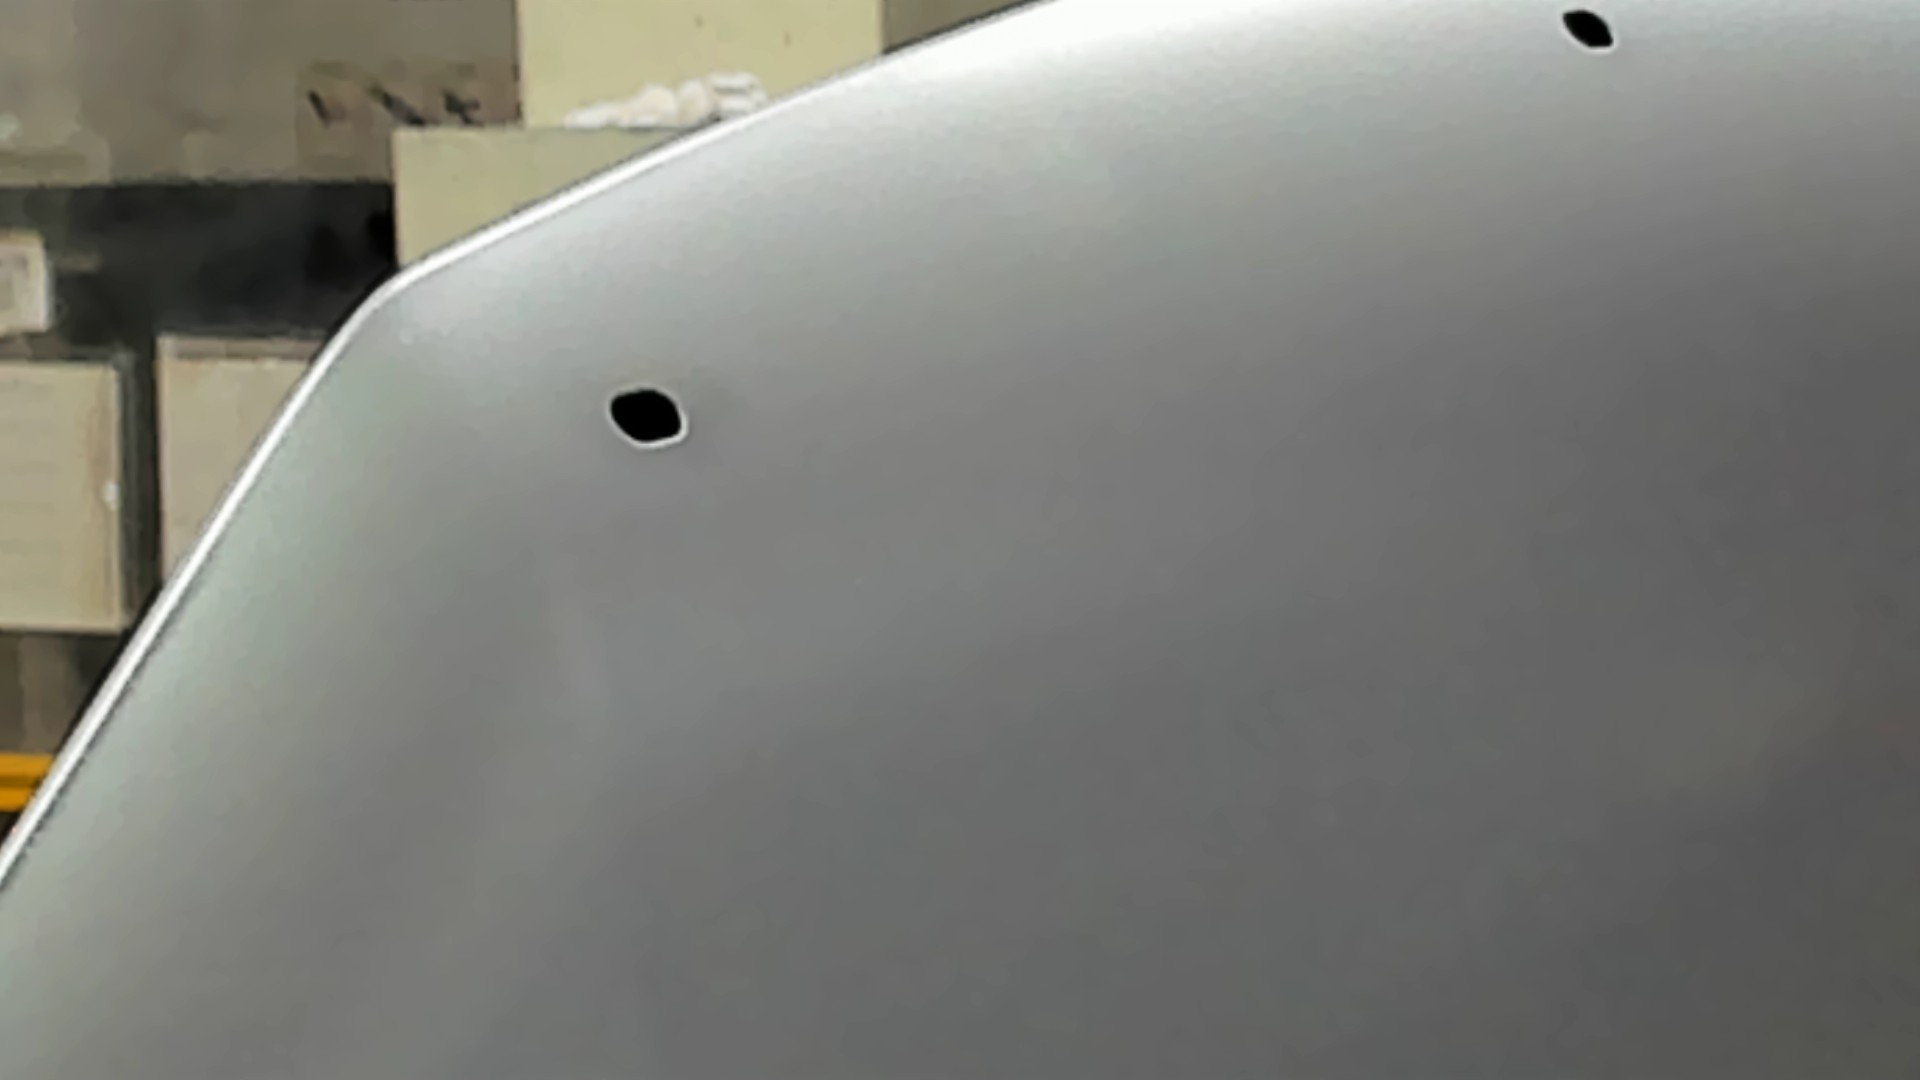amorfo: (600, 378, 696, 456), (1556, 4, 1623, 55)
capo: (806, 120, 1920, 1080)
